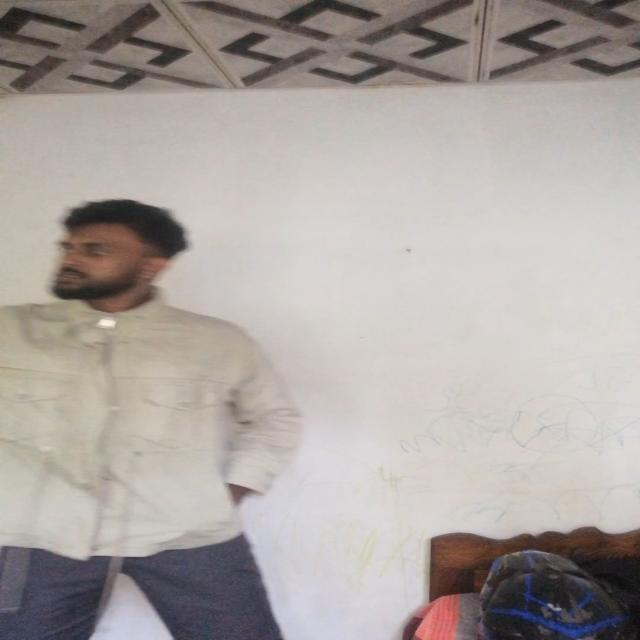Jacket_Wearer: (0, 285, 299, 566)
Person: (0, 200, 283, 640)
